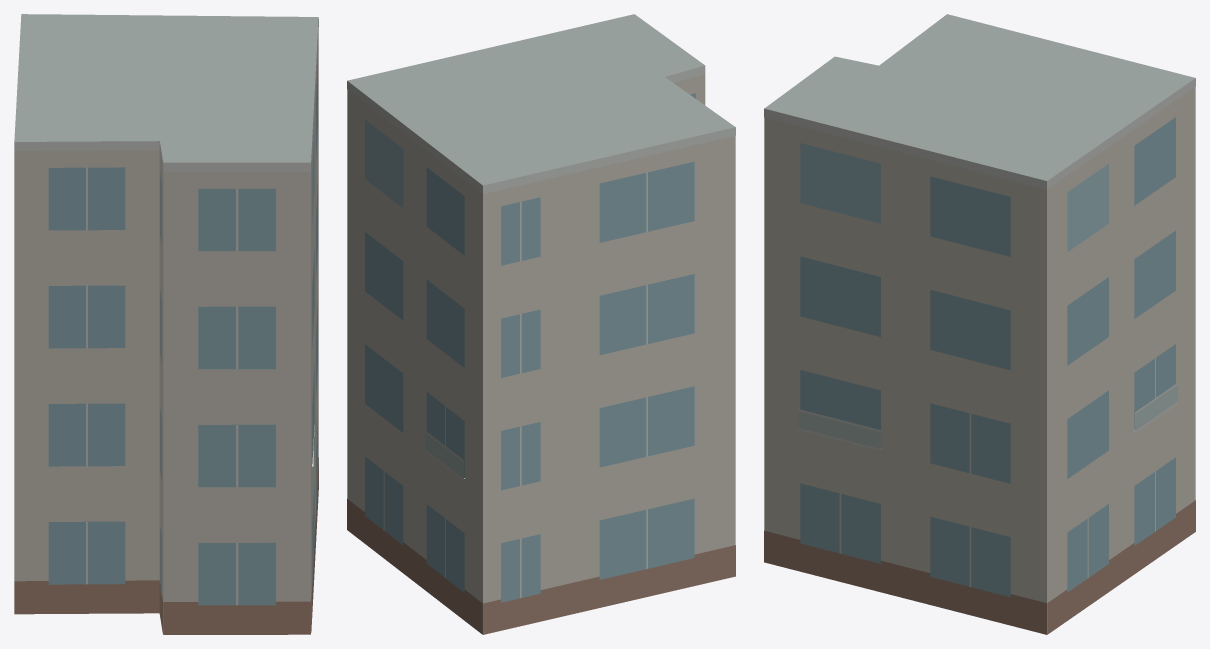
The model's file is survey-upis-32811474.glb.
3 views of the same model, side by side, from view 1: azimuth 30°, elevation 25°; view 2: azimuth 150°, elevation 25°; view 3: azimuth 270°, elevation 25° (orthographic). The views are drawn at different scales.
Parts seen in each view (by area): view 1: survey-upis-32811474.tmp; view 2: survey-upis-32811474.tmp; view 3: survey-upis-32811474.tmp.
Boxes of the visible parts, x1=… form: survey-upis-32811474.tmp: x1=14, y1=14, x2=318, y2=634; survey-upis-32811474.tmp: x1=347, y1=14, x2=735, y2=634; survey-upis-32811474.tmp: x1=764, y1=14, x2=1195, y2=634.
Size of the model in its own units: 10.12 by 12.8 by 11.04.
